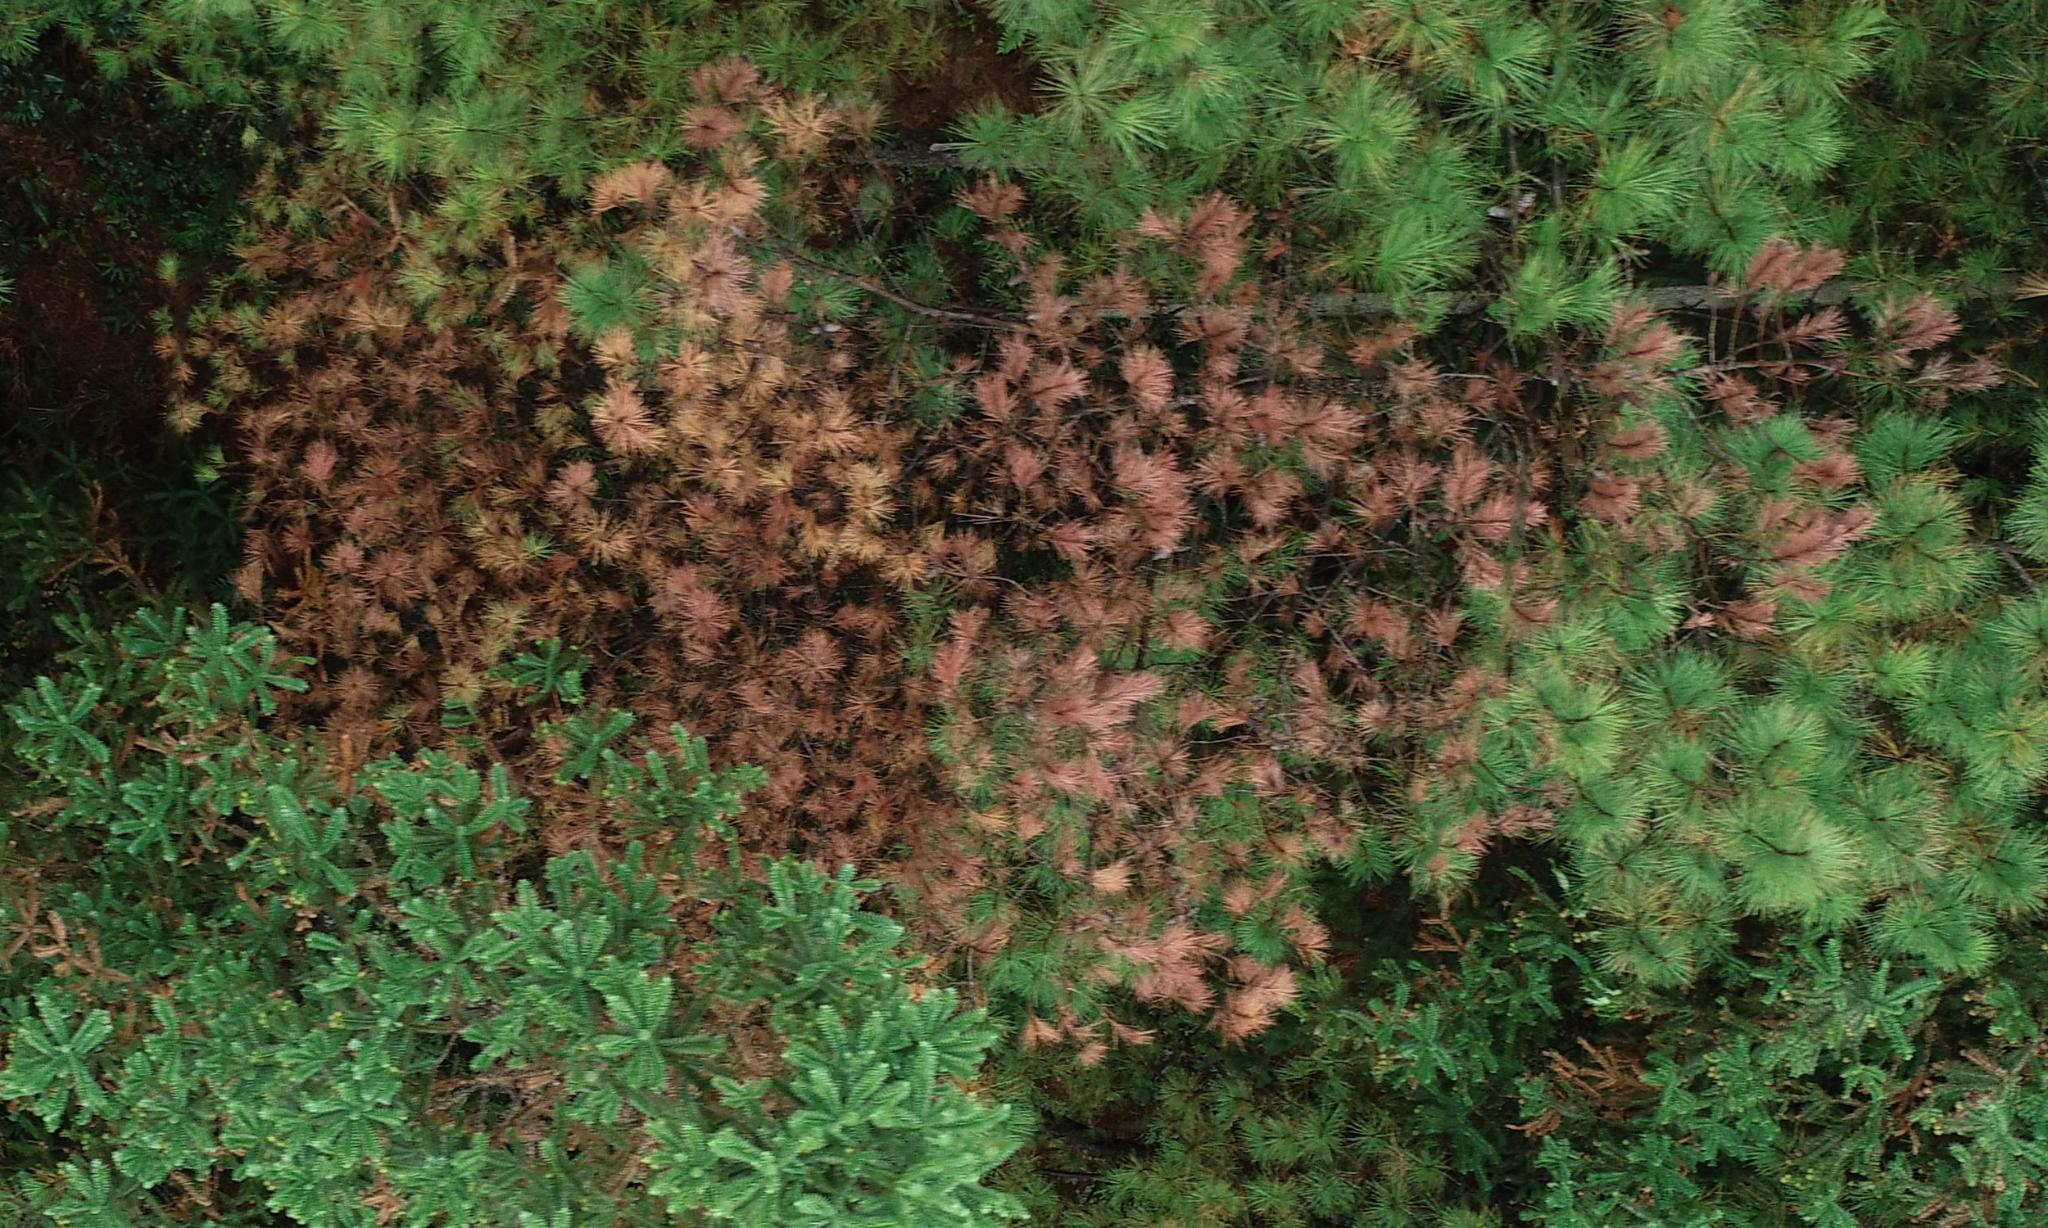heavy: (96, 86, 1852, 1004)
